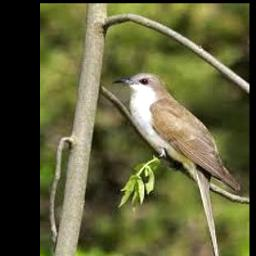Cuckoo: (112, 73, 241, 191)
